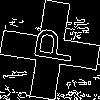P: (25, 25, 75, 65)
